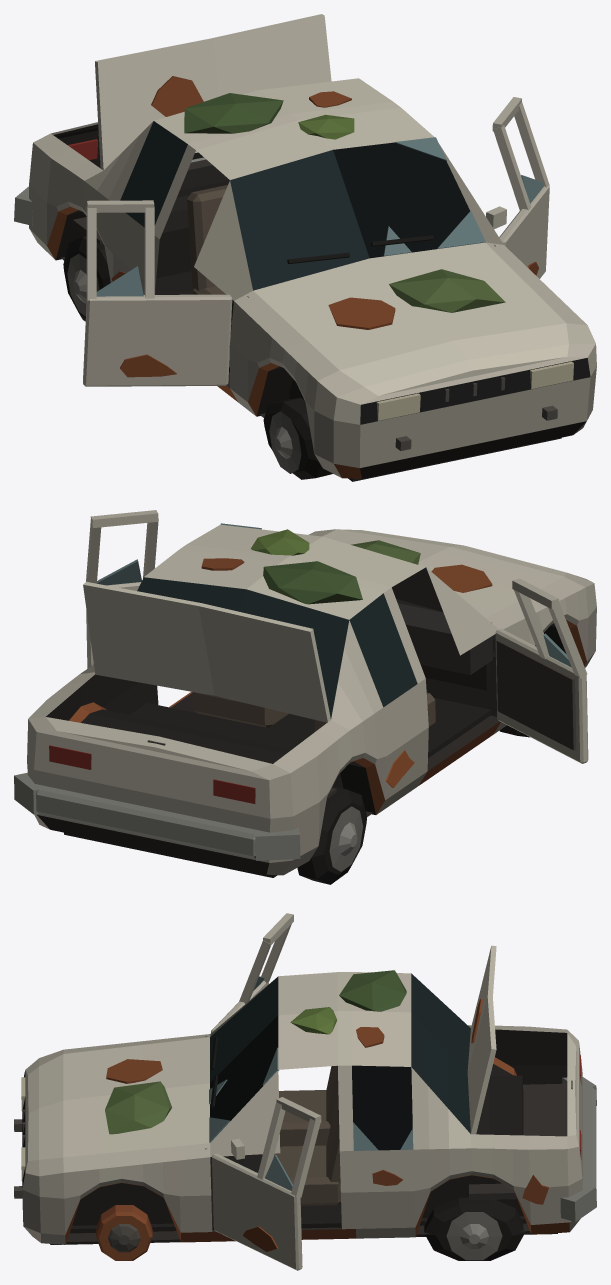
Rendered from carro_abandonado_3_aberto.glb.
3 renders of one model, top to bottom at view 1: azimuth 30°, elevation 25°; view 2: azimuth 150°, elevation 25°; view 3: azimuth 270°, elevation 25°, orthographic. The views are drawn at different scales.
Visible parts, largest first — view 1: carro_abandonado_3_aberto.001; view 2: carro_abandonado_3_aberto.001; view 3: carro_abandonado_3_aberto.001.
Part boxes in pixels (bbox=[...]): carro_abandonado_3_aberto.001: bbox=[14, 14, 596, 481]; carro_abandonado_3_aberto.001: bbox=[14, 510, 596, 884]; carro_abandonado_3_aberto.001: bbox=[14, 913, 596, 1270].
Bounding box in the file's own units: 2.78 × 1.38 × 3.33.
